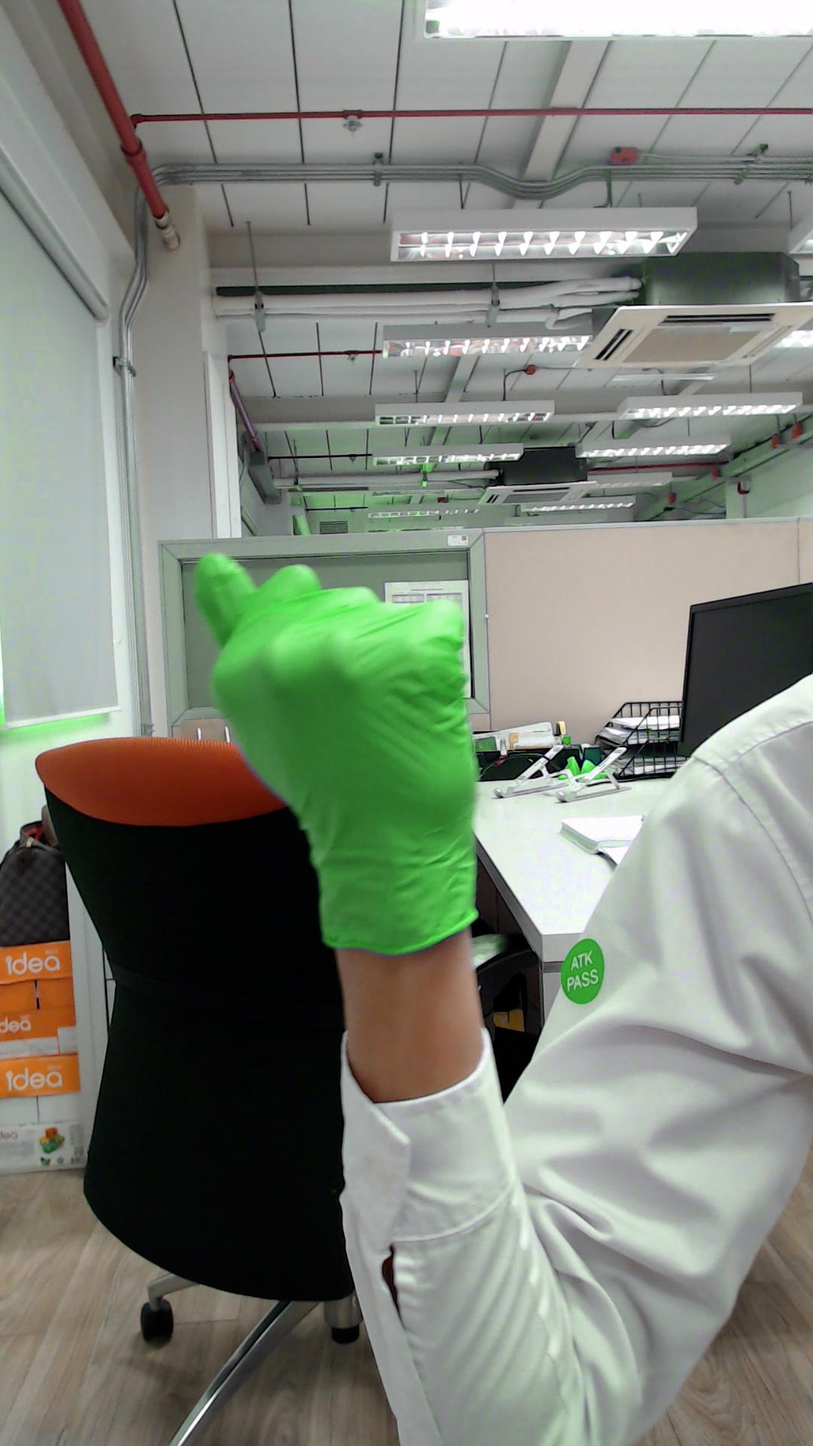gloves: (174, 538, 490, 840)
